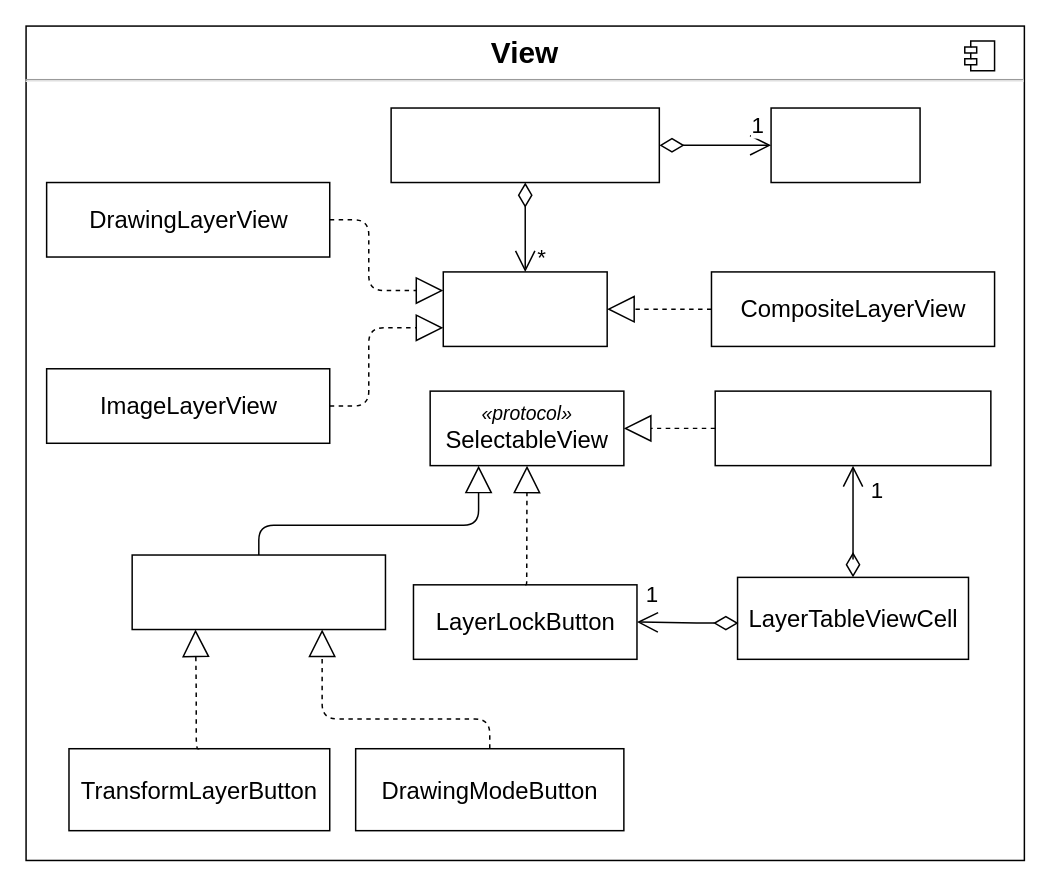
This 1050x887 diagram has some shape labels left out. Each missing label, with the centre of its shape:
"EditingMode" belongs at pixel 845 145.
"LayerVisibilityButton" belongs at pixel 852 428.
"ShotView" belongs at pixel 524 145.
"«protocol» LayerView" belongs at pixel 524 308.
"«protocol» ShotDesignerButton" belongs at pixel 258 592.
